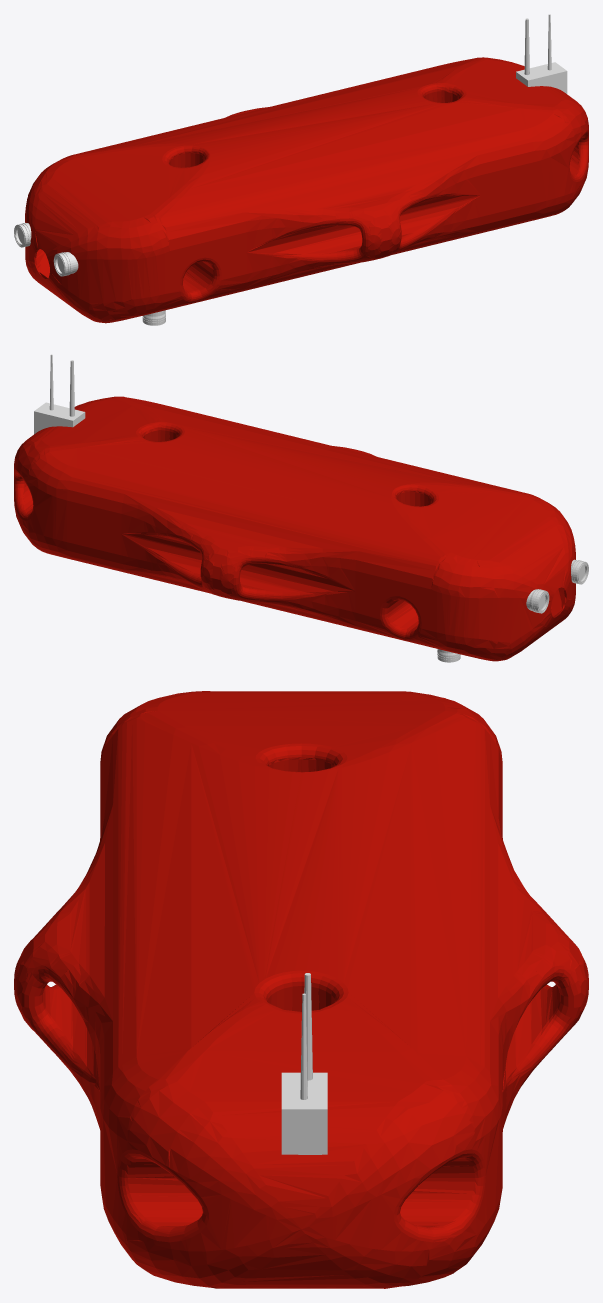
File: flatfish_05.dae
3 views of the same model, one above another, from view 1: azimuth 30°, elevation 25°; view 2: azimuth 150°, elevation 25°; view 3: azimuth 270°, elevation 25° (orthographic). The views are drawn at different scales.
Parts seen in each view (by area): view 1: flatfish_cover_mesh_01, modem, flatfish_camera_001; view 2: flatfish_cover_mesh_01, modem, flatfish_camera_002; view 3: flatfish_cover_mesh_01, modem.
Boxes of the visible parts, x1,y1,x2,y2 form: flatfish_cover_mesh_01: (25, 57, 588, 323); modem: (516, 14, 567, 93); flatfish_camera_001: (53, 252, 78, 276); flatfish_cover_mesh_01: (14, 396, 575, 661); modem: (34, 354, 85, 434); flatfish_camera_002: (526, 589, 549, 613); flatfish_cover_mesh_01: (14, 691, 588, 1288); modem: (281, 973, 327, 1154).
Bounding box in the file's own units: 2.04 × 1 × 0.6873.
